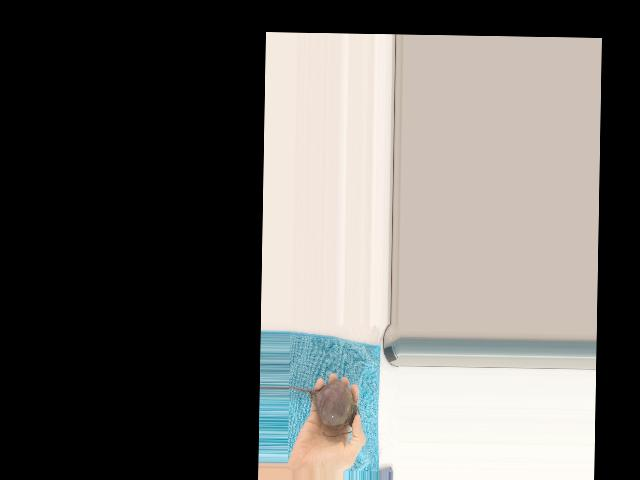beet: (287, 379, 360, 436)
